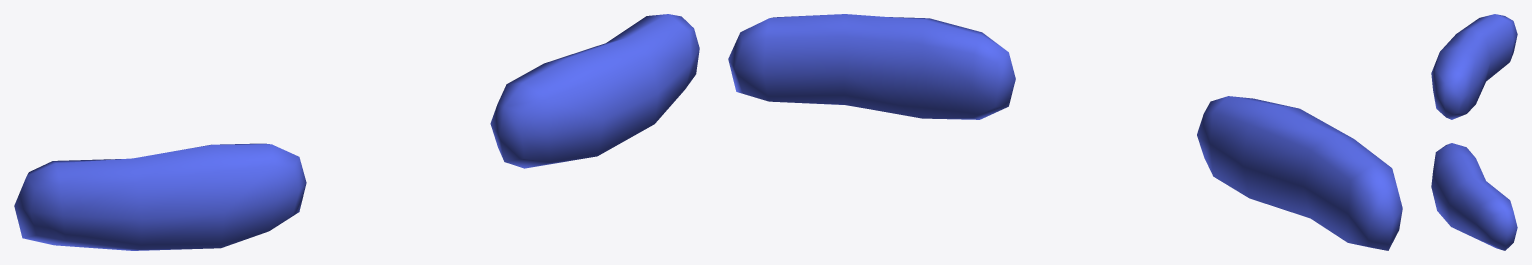
Rendered from Eyebrows_01_03.fbx.
The picture shows the model from 3 angles, left to right: view 1: azimuth 30°, elevation 25°; view 2: azimuth 150°, elevation 25°; view 3: azimuth 270°, elevation 25°; orthographic projection. The views are drawn at different scales.
Visible parts, largest first — view 1: Eyebrows_01_03; view 2: Eyebrows_01_03; view 3: Eyebrows_01_03.
Boxes of the visible parts, x1,y1,x2,y2 form: Eyebrows_01_03: (14,14,699,250); Eyebrows_01_03: (728,14,1402,250); Eyebrows_01_03: (1431,14,1517,250).
Bounding box in the file's own units: 18.54 × 2.63 × 3.34.
